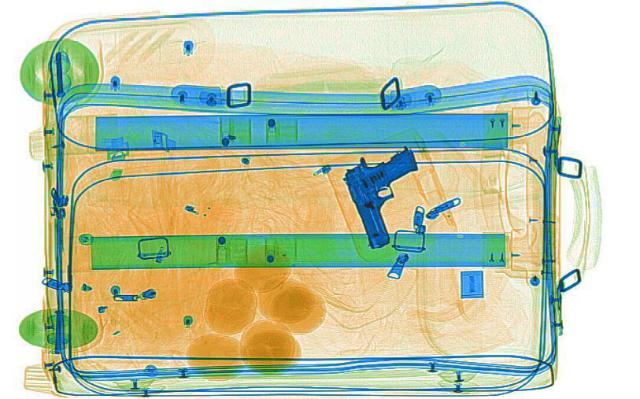Gun: (318, 142, 462, 249)
